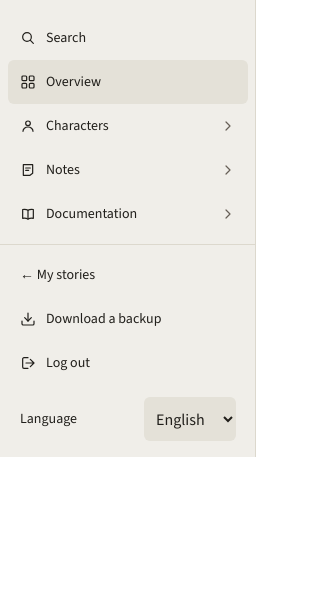
Scenario: StoryNavDrawer › foldable entry sections › folds the section again on a second click
The width and height of the screenshot is (320, 606).
Click the button with test id "story-nav-characters". click: (128, 126)
box: x1=8 y1=104 x2=248 y2=148
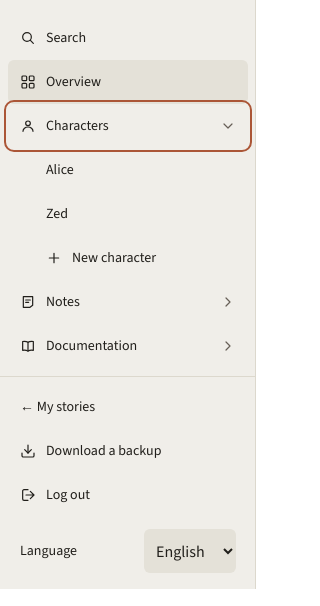
Click the button with test id "story-nav-characters". click: (128, 126)
box: x1=8 y1=104 x2=248 y2=148
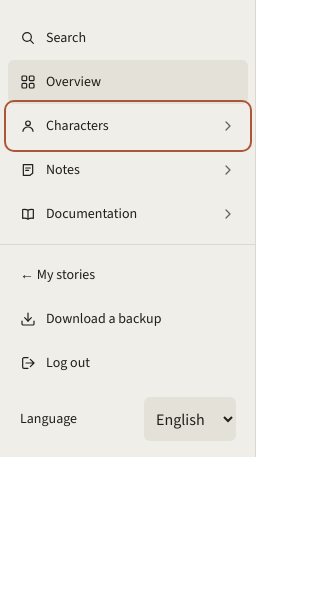
Result: the button with test id "story-nav-characters" is collapsed at x1=8 y1=104 x2=248 y2=148
Result: the link with test id "story-nav-entry" is gone
